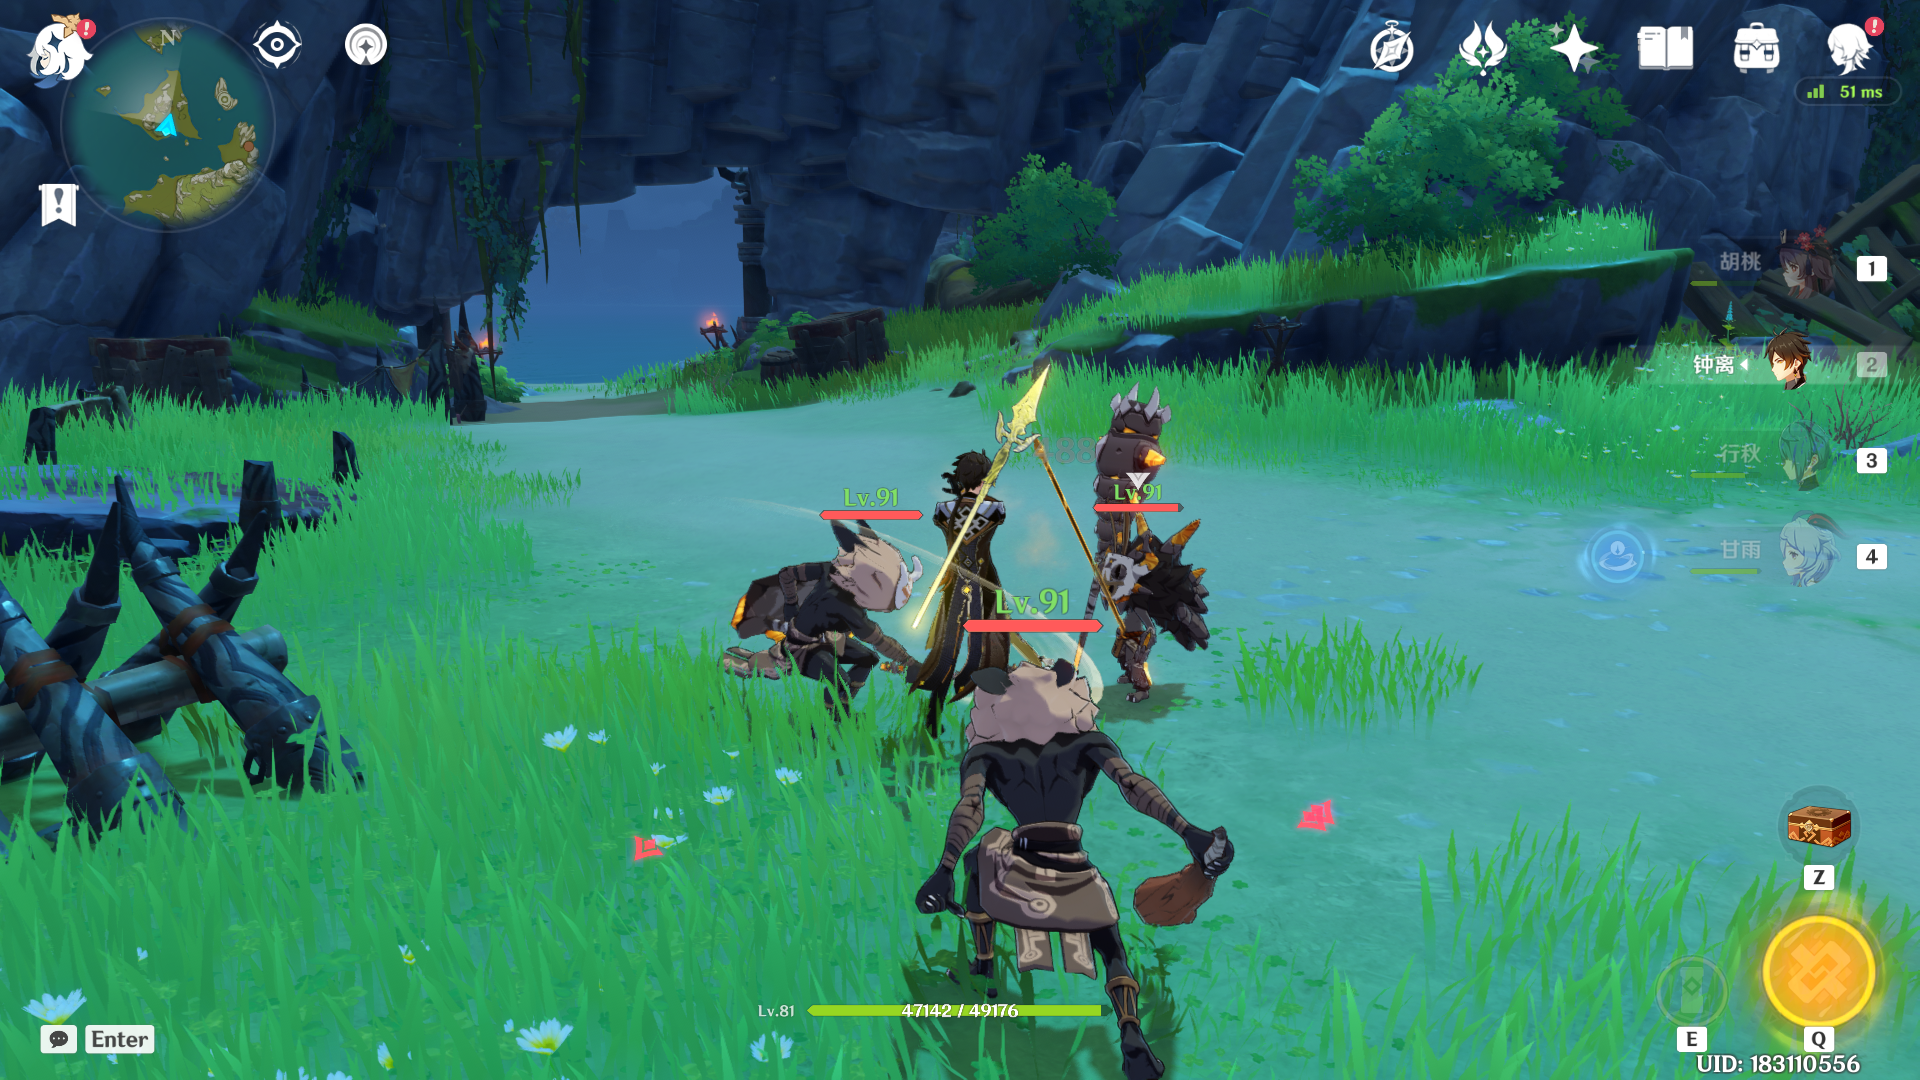character: (866, 446, 1058, 745)
hili: (890, 618, 1270, 1080), (682, 495, 949, 764), (1055, 357, 1255, 702)
